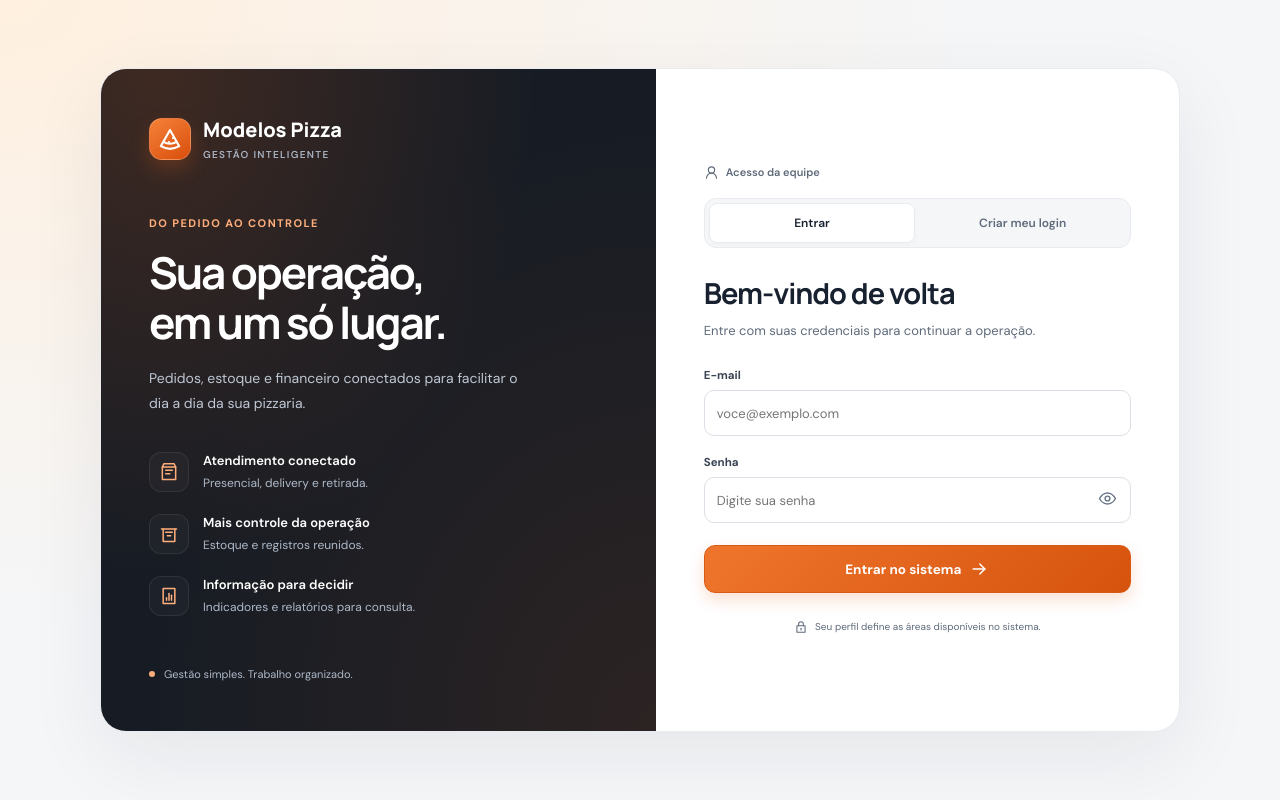
it: mostra e oculta a senha sem alterar o valor ou enviar o formulário
Type "novo@teste.com" into the field labelled "E-mail" at (917, 413), box [704,390,1131,436]
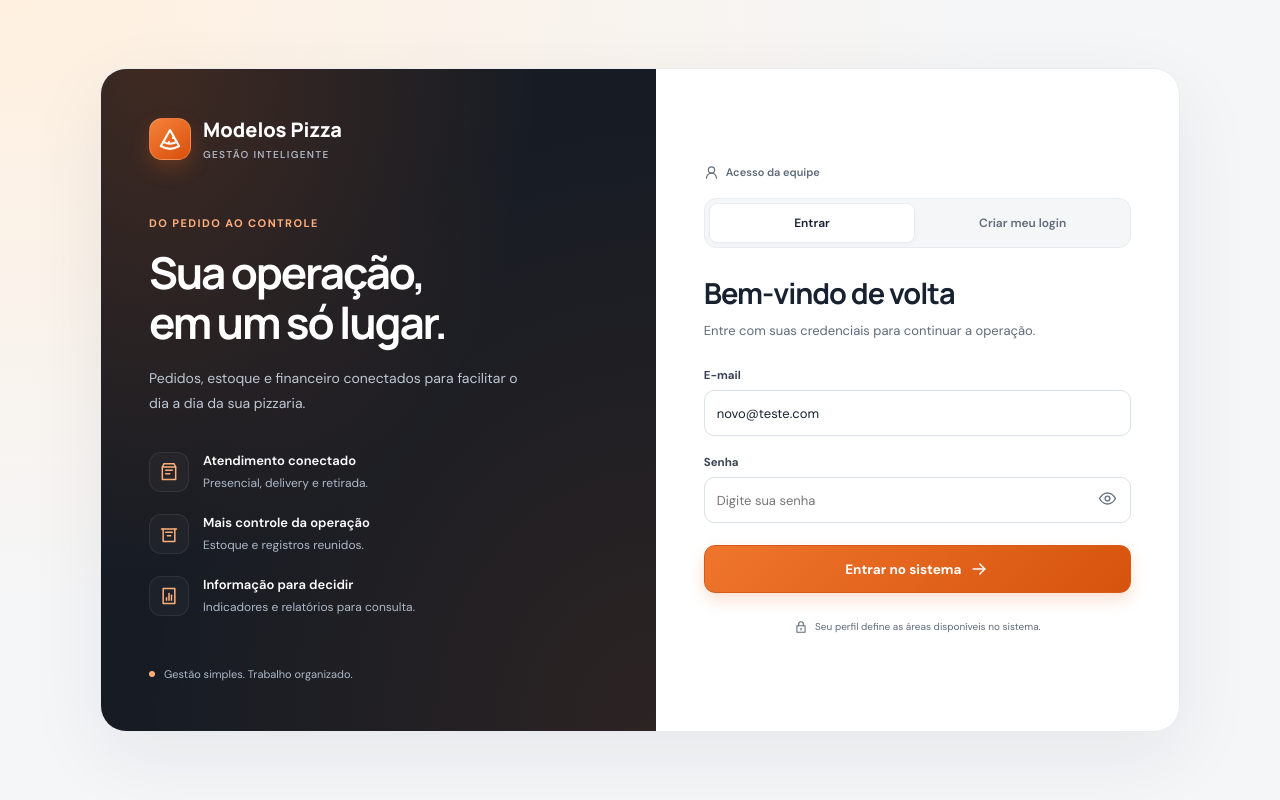
Type "SenhaTeste123!" into the password field labelled "Senha" at (917, 500), box [704,477,1131,523]
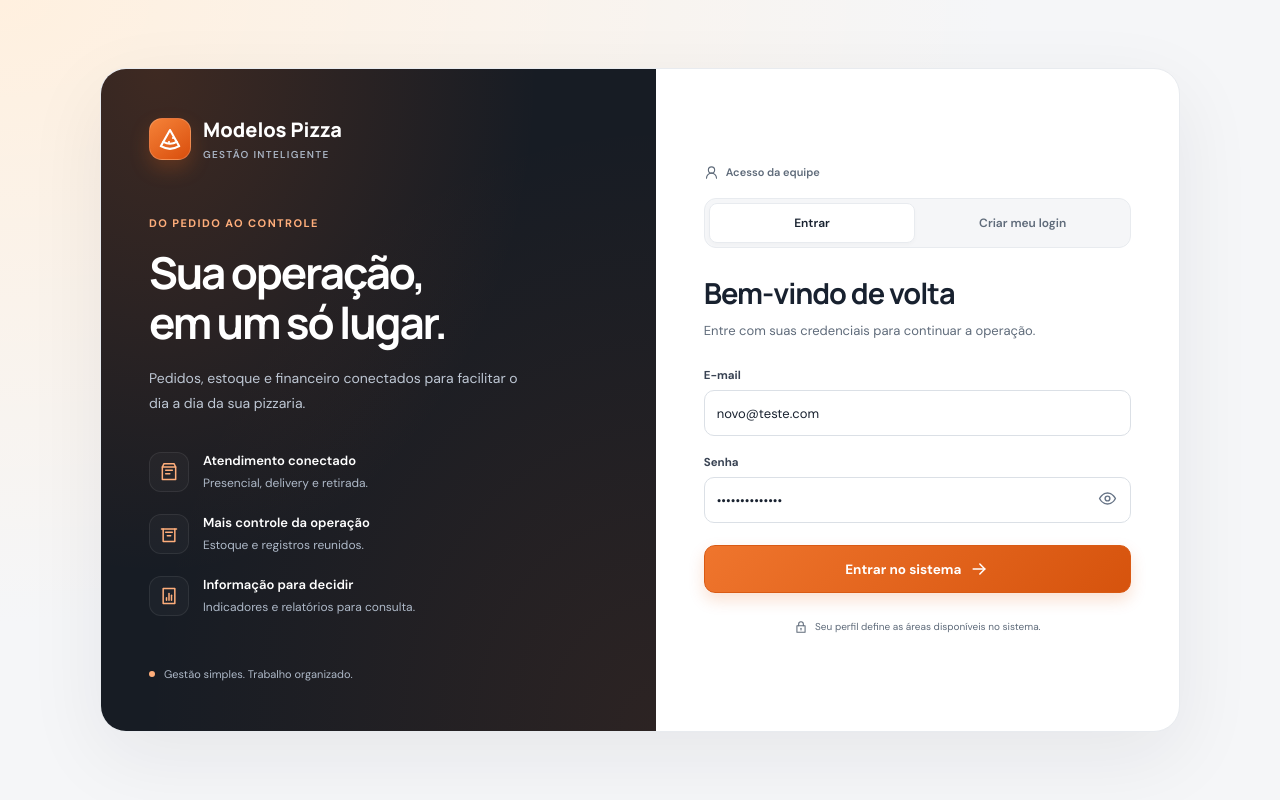
Click the button named "Mostrar senha" at (1108, 498), box [1088,480,1128,516]
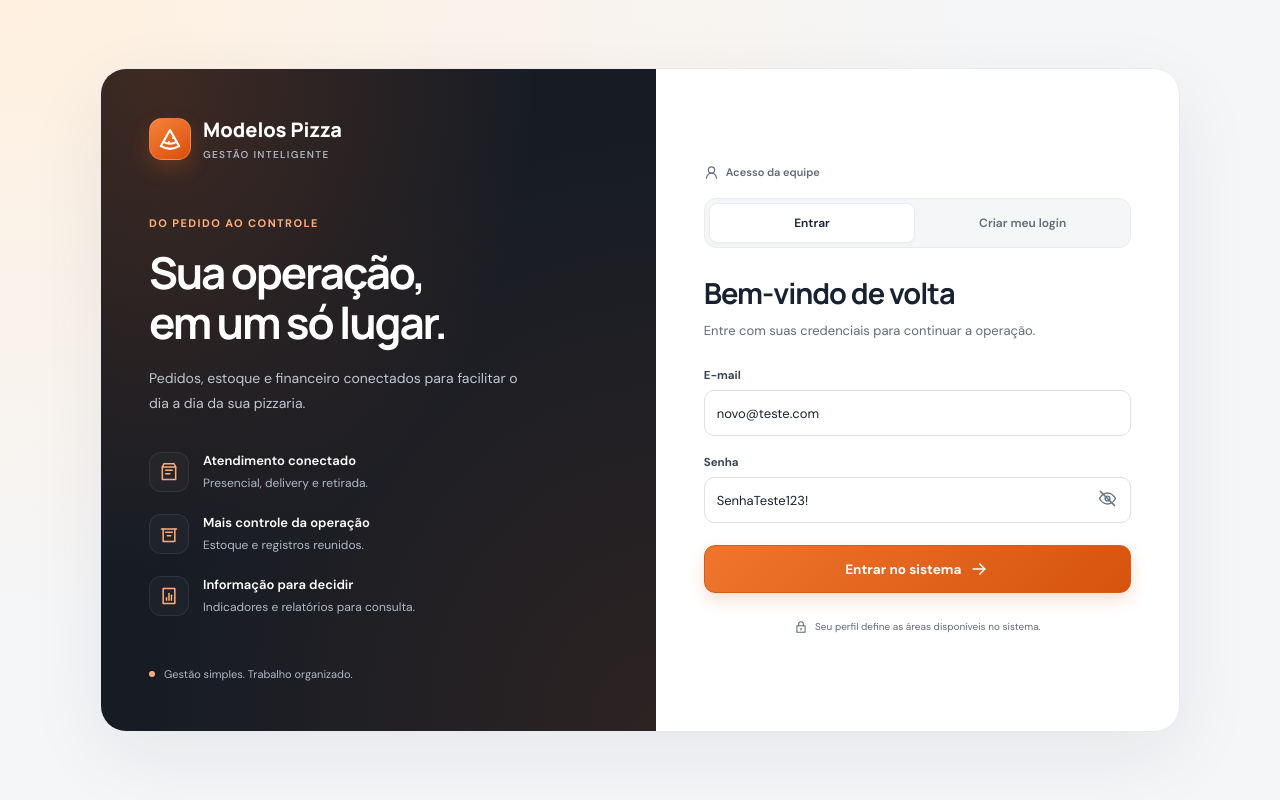
Check: the field labelled "Senha" shows its text, box [704,477,1131,523]
Click the button named "Ocultar senha" at (1108, 498), box [1088,480,1128,516]
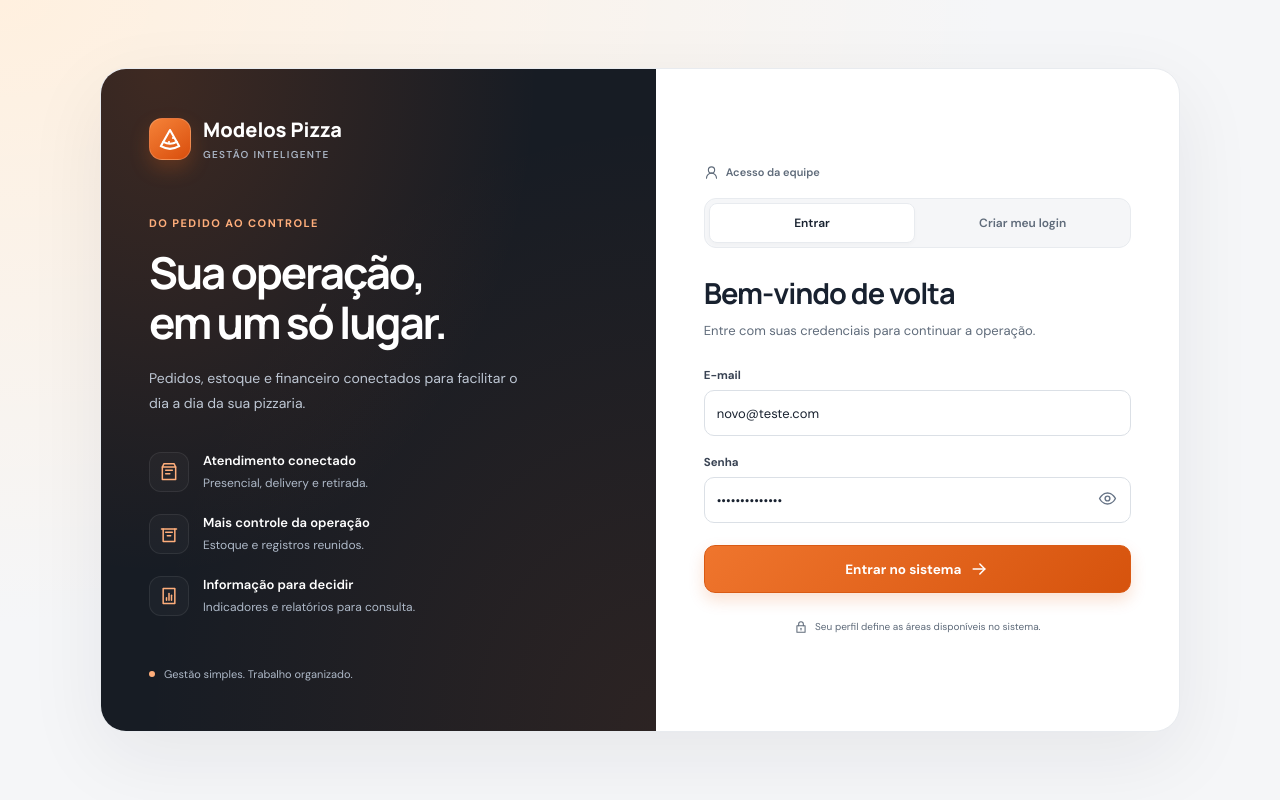
Check: the password field labelled "Senha" hides its text, box [704,477,1131,523]
